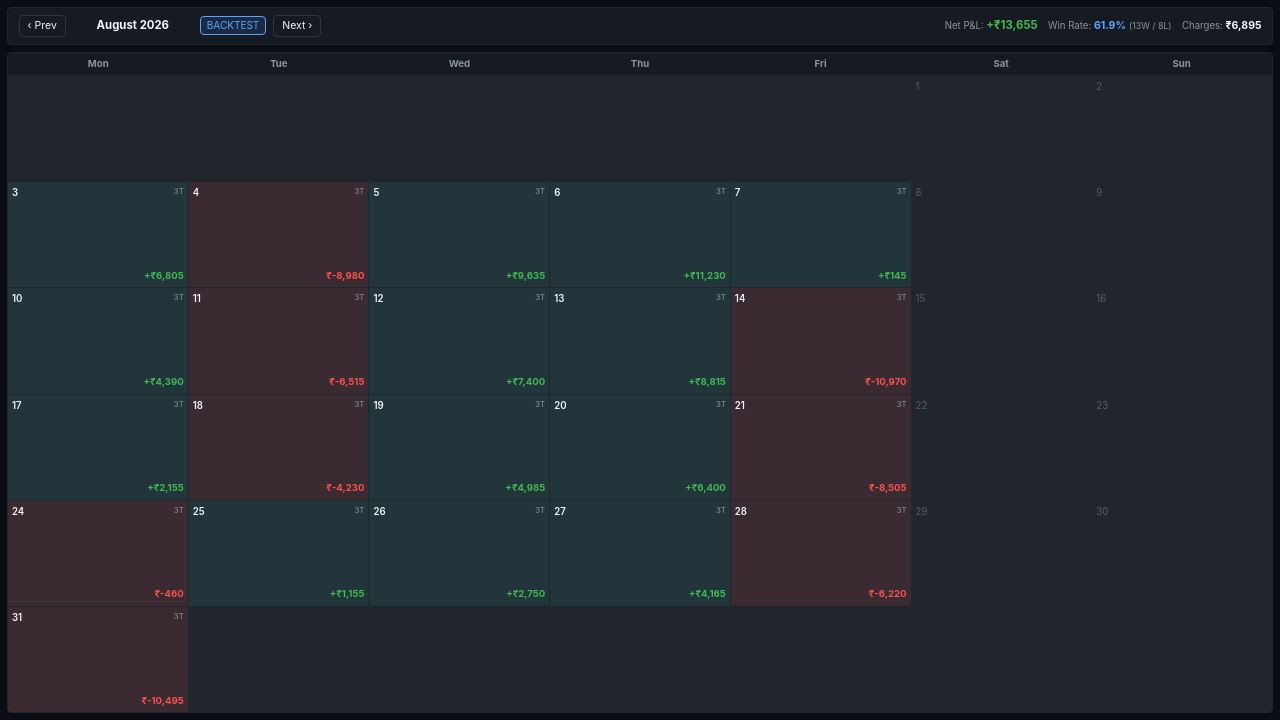
Test: PnlCalendarWidget Component › renders monthly PnL grid with scorecard and navigation
The width and height of the screenshot is (1280, 720).
Expected: the text "August 2026" is shown, [97,18,169,32]
Expected: the text "+₹13,655" is shown, [986,18,1038,32]
Click the button "Next ›" at coordinates (297, 26), box [273,15,321,37]
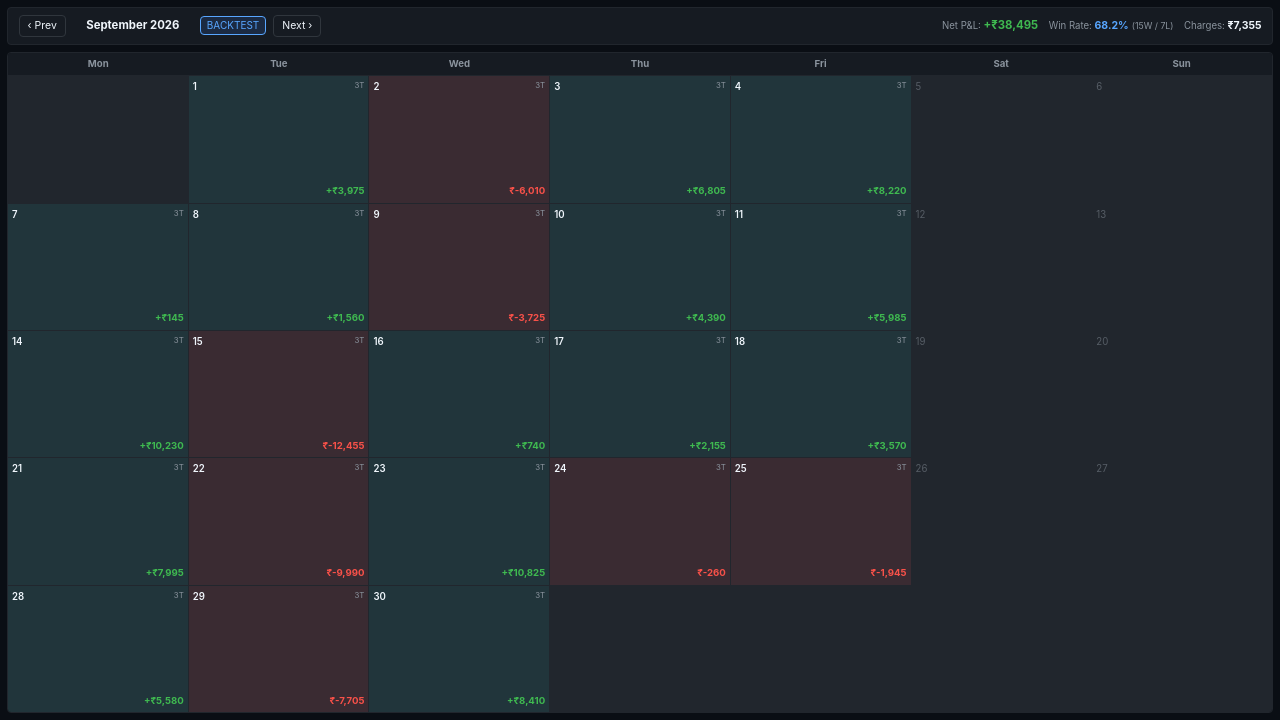
Expected: the text "September 2026" is shown, [86,18,179,32]
